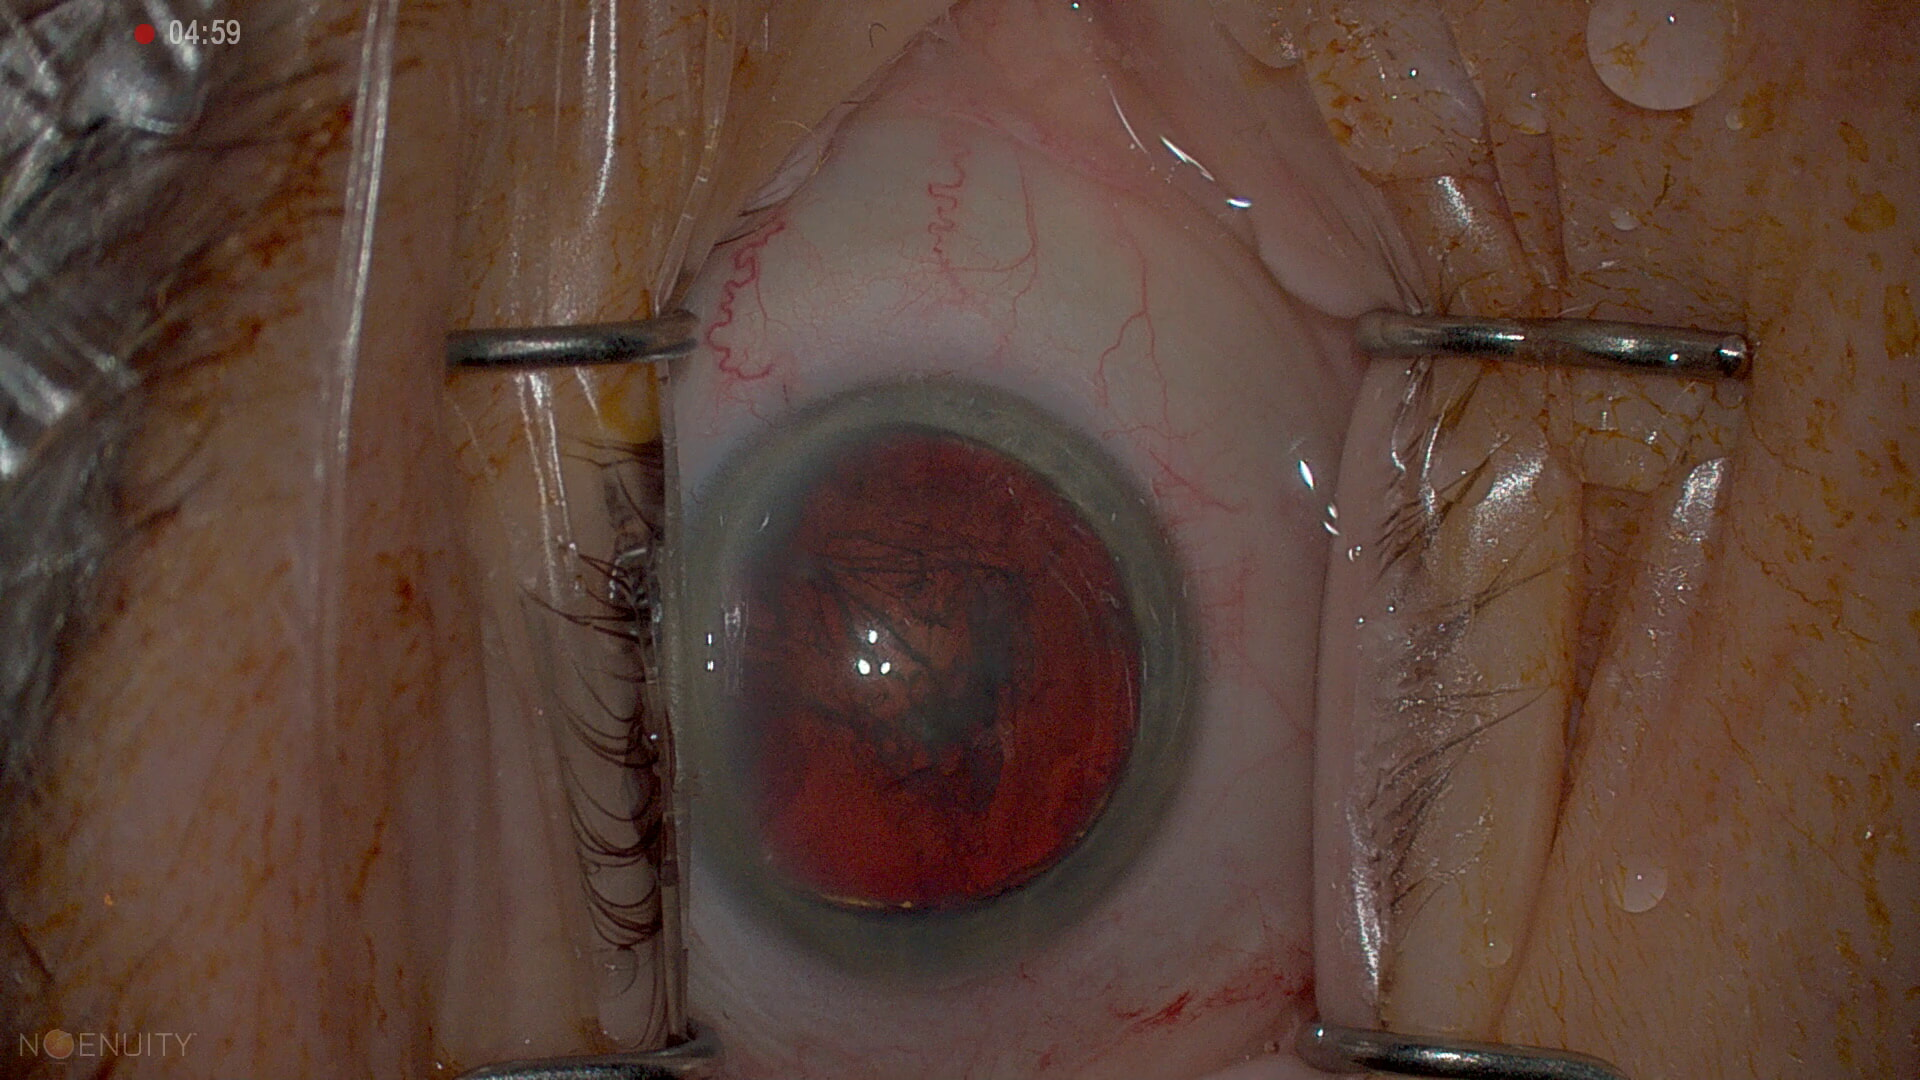iris: (671, 387, 1205, 975)
pupil: (716, 428, 1140, 911)
